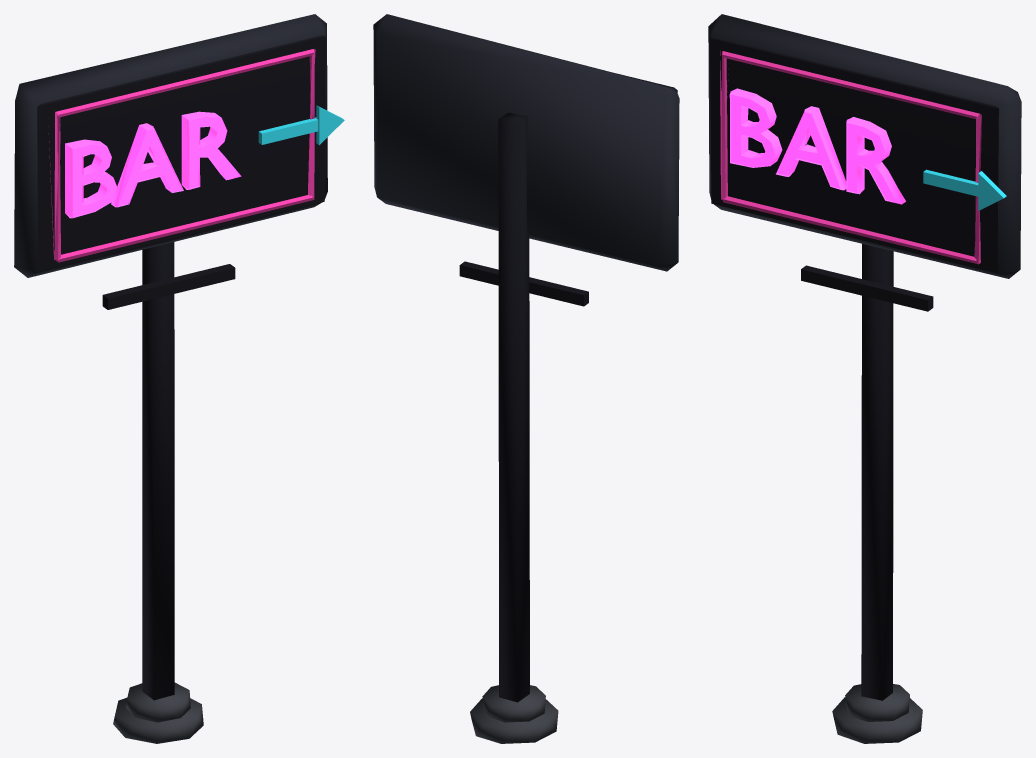
File: lod_neon_street_sign.glb
3 views of the same model, side by side, from view 1: azimuth 30°, elevation 25°; view 2: azimuth 150°, elevation 25°; view 3: azimuth 330°, elevation 25° (orthographic). The views are drawn at different scales.
Visible parts, largest first — view 1: neon_street_sign; view 2: neon_street_sign; view 3: neon_street_sign.
Part boxes in pixels (<box>): neon_street_sign: <box>14,14,344,743</box>; neon_street_sign: <box>373,14,679,743</box>; neon_street_sign: <box>708,14,1021,743</box>.
Bounding box in the file's own units: 1.72 × 3.61 × 0.5079.
